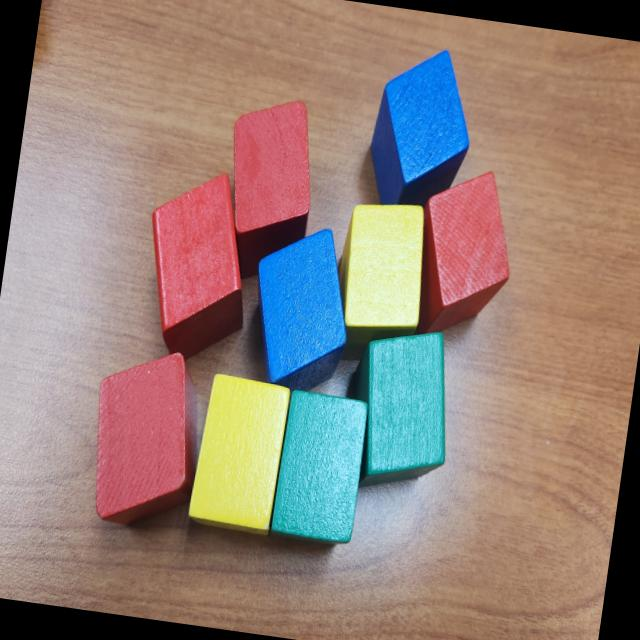blue: (362, 40, 482, 217), (242, 220, 361, 393)
green: (341, 322, 464, 500), (270, 387, 374, 550)
red: (133, 165, 264, 368), (80, 340, 212, 534), (214, 92, 326, 289), (406, 162, 524, 347)
yellow: (326, 196, 437, 372), (188, 371, 292, 533)
